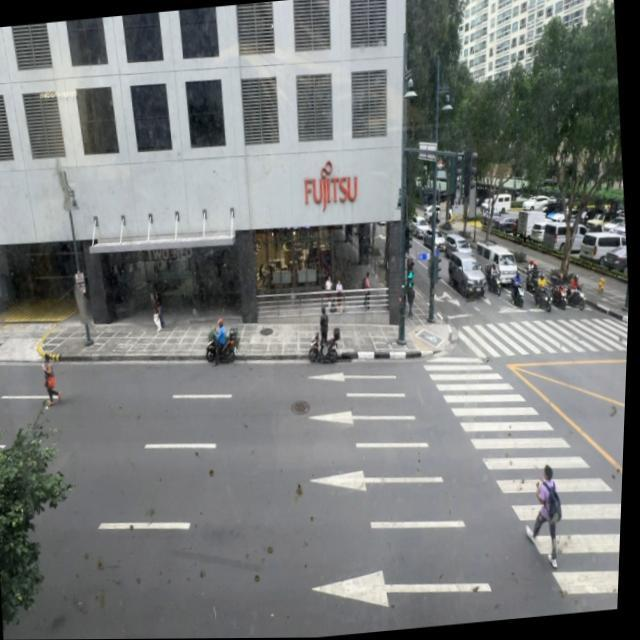jaywalking: (40, 352, 64, 406)
